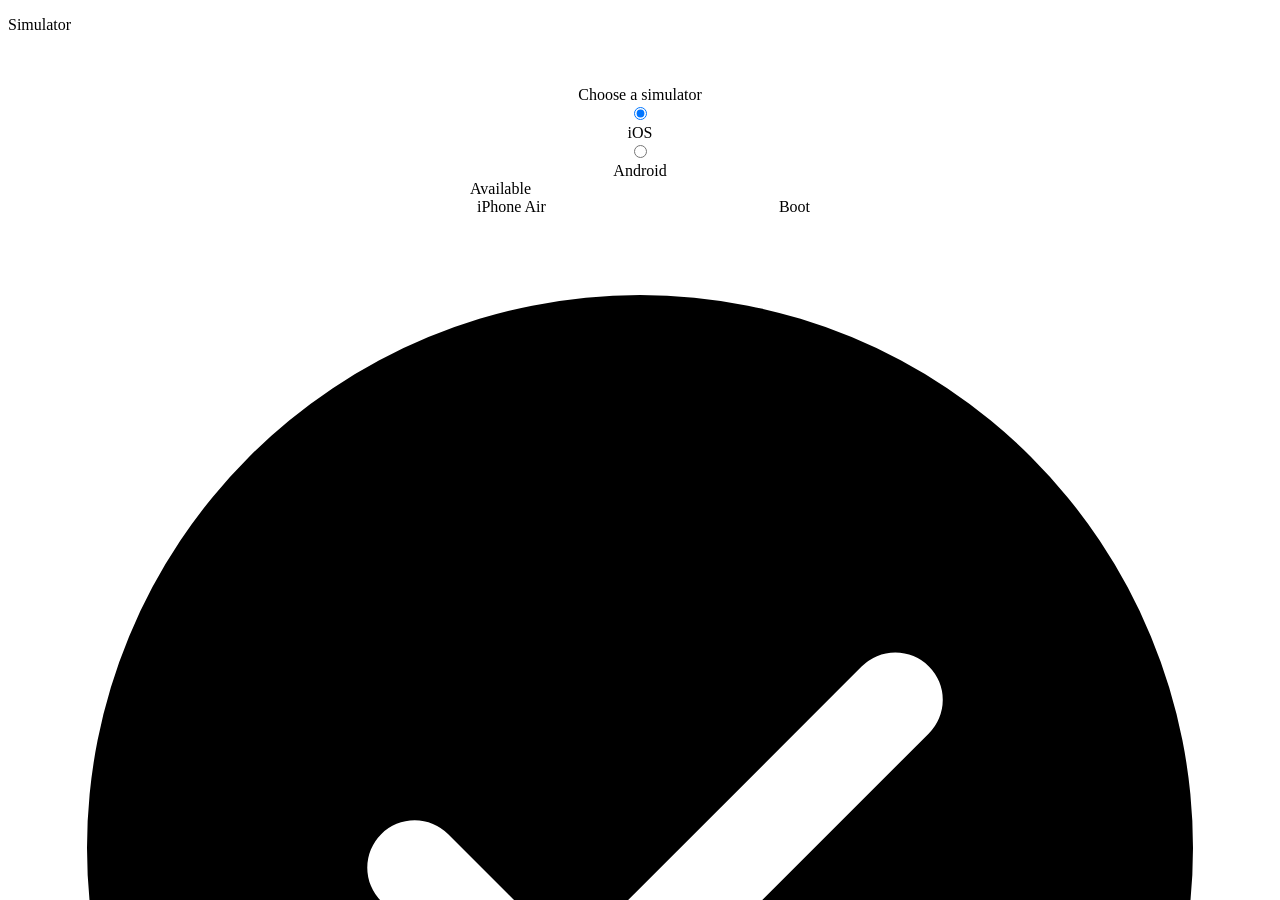
Test: MobileSimulatorPanel › device picker › lets the user switch between platforms and shows missing tooling in its own tab
Expected: the text "Install the Android SDK." is not shown
Click the radio button labelled "Android" at (641,152), box [634,145,648,158]
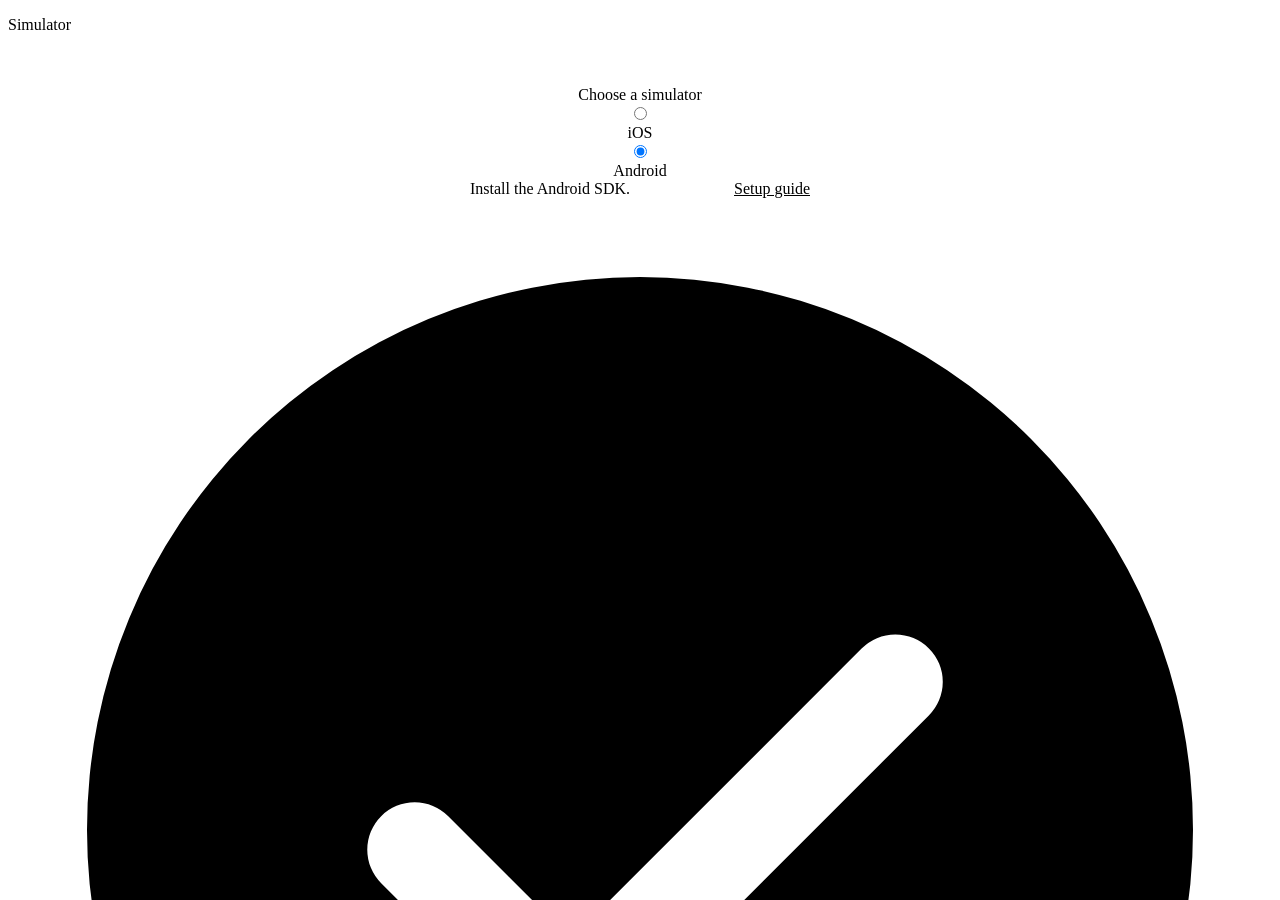
Result: the text "iPhone Air" is gone
Result: the text "Install the Android SDK." is shown at [470,180,630,198]
